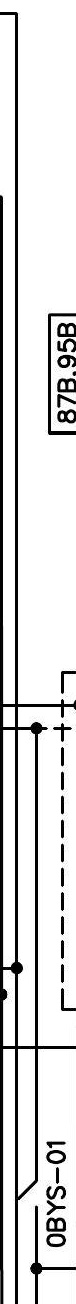115_ds: (18, 1180, 39, 1210)
